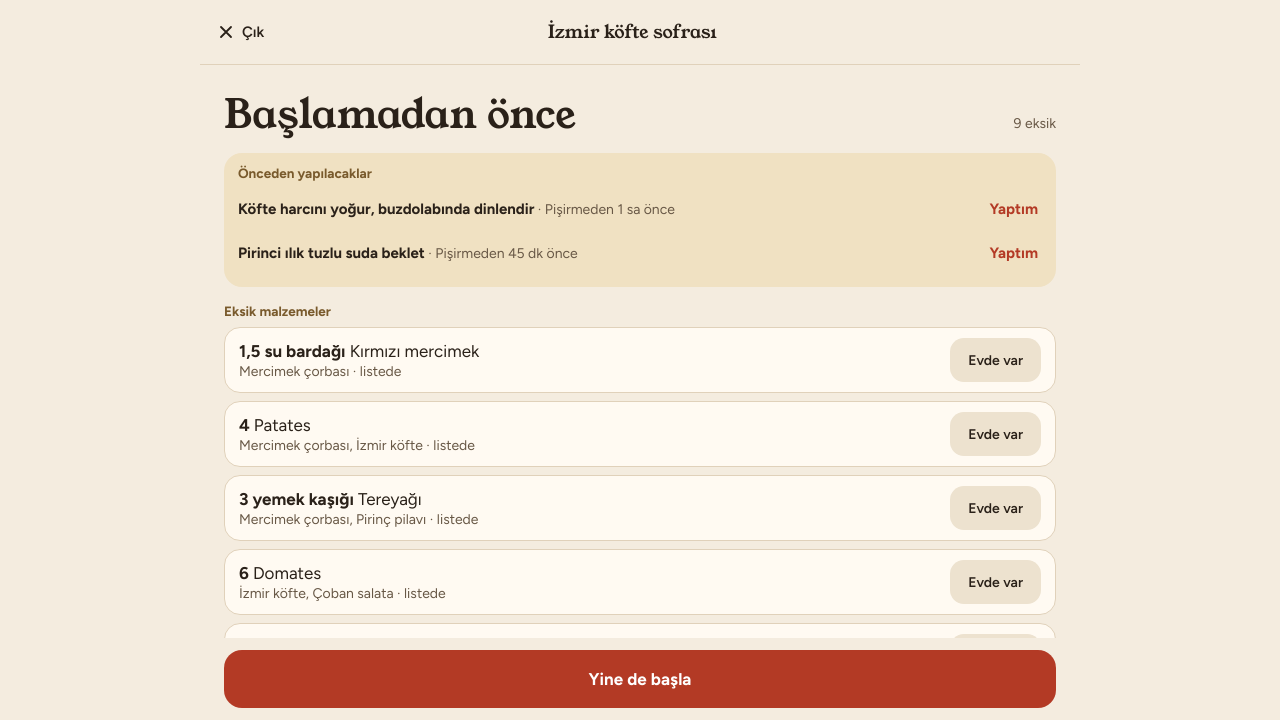
Test: cooking timers › +1 dk keeps the countdown in place; a strip timer opens its step
The width and height of the screenshot is (1280, 720).
Click the button "Yine de başla": (640,679) [224,650,1056,708]
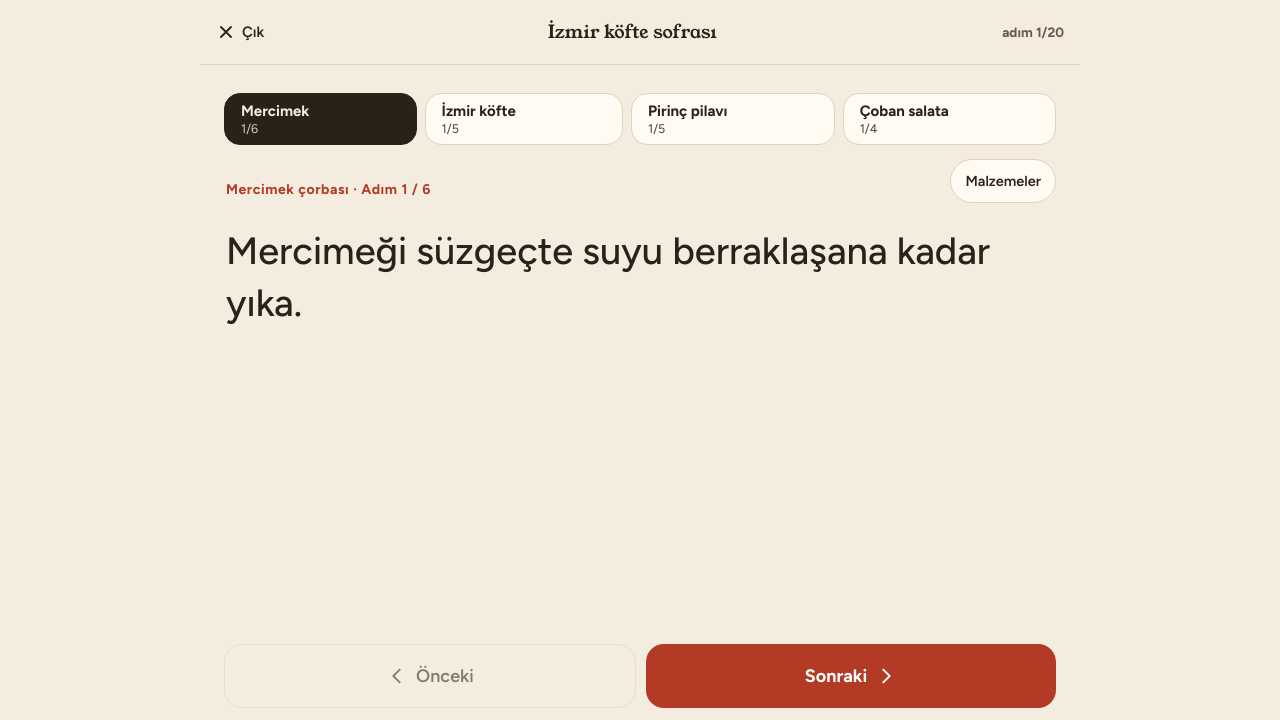
Click the tab "İzmir köfte 1/5": (524,119) [425,93,623,145]
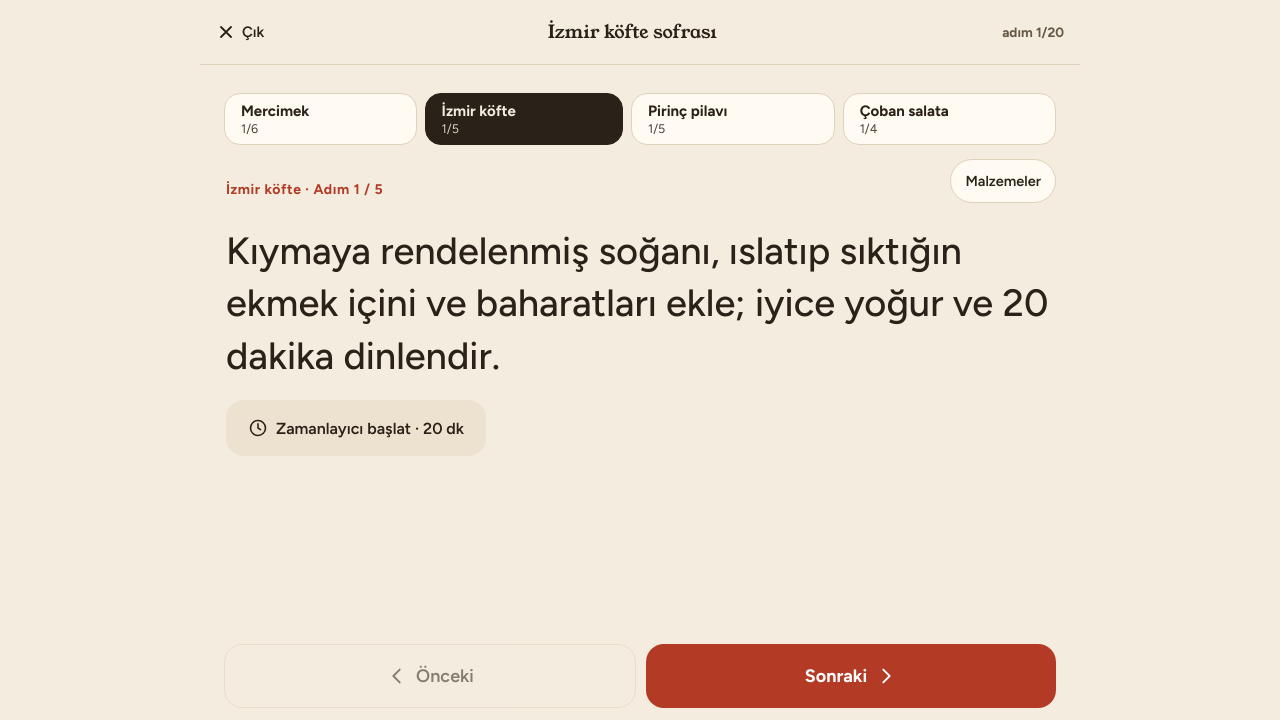
Click the button "Zamanlayıcı başlat · 20 dk": (356,428) [226,400,486,456]
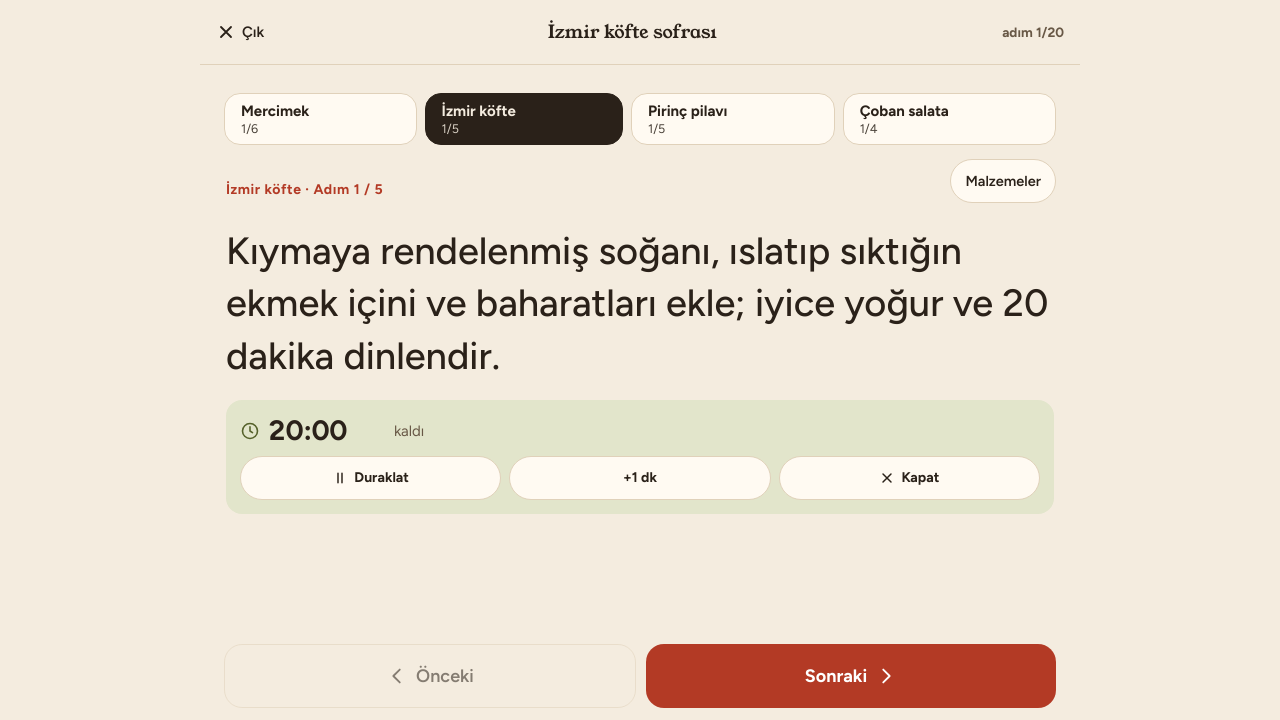
Click the button with aria-label "Adım 1: 1 dakika ekle": (640,478) [509,456,771,500]
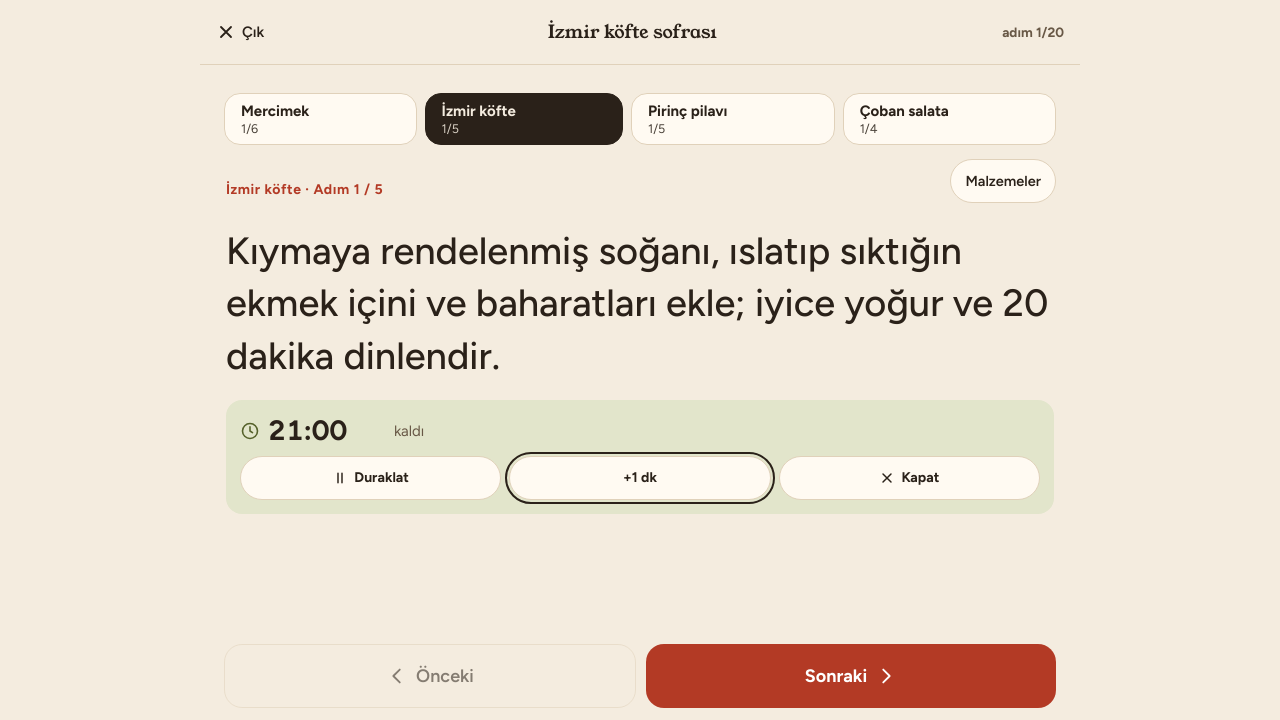
Expected: the button "Zamanlayıcı başlat · 20 dk" is not shown
Expected: the text "21:00" is shown, [268,413,347,447]
Click the button "Sonraki": (851,676) [646,644,1056,708]
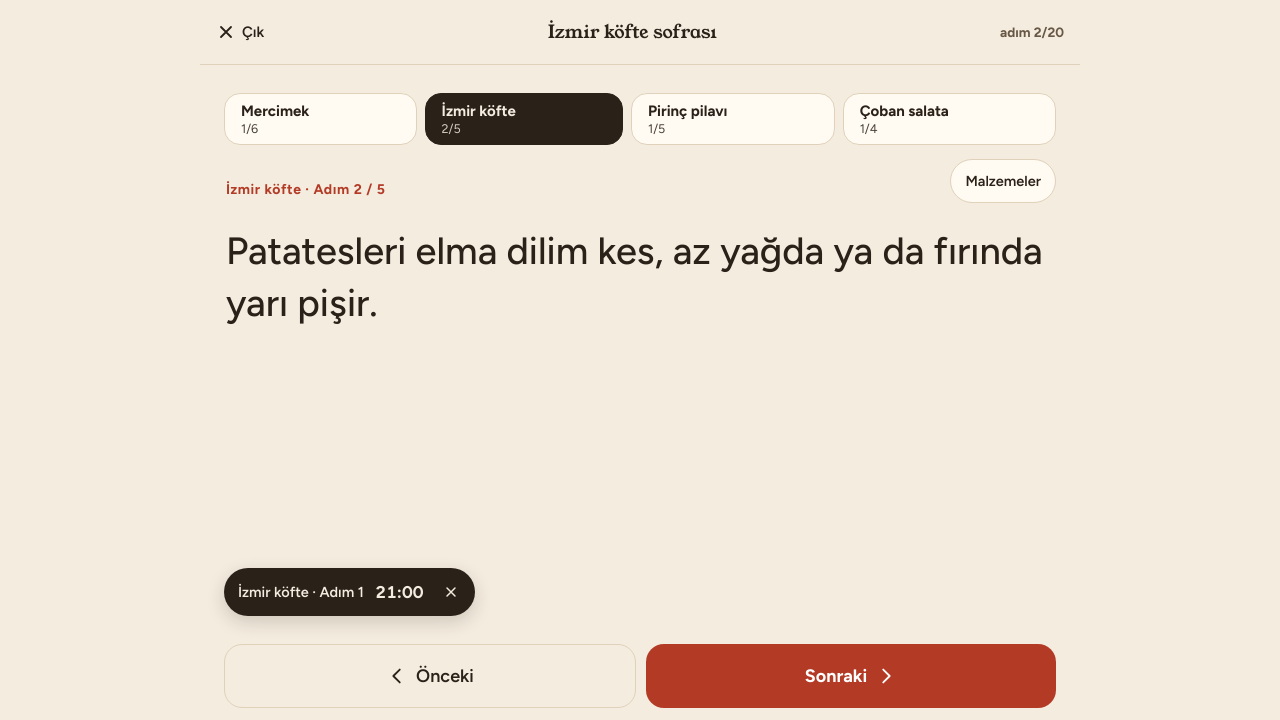
Click the button with aria-label "Adım 1: 21:00 kaldı": (331,592) [238,570,423,614]
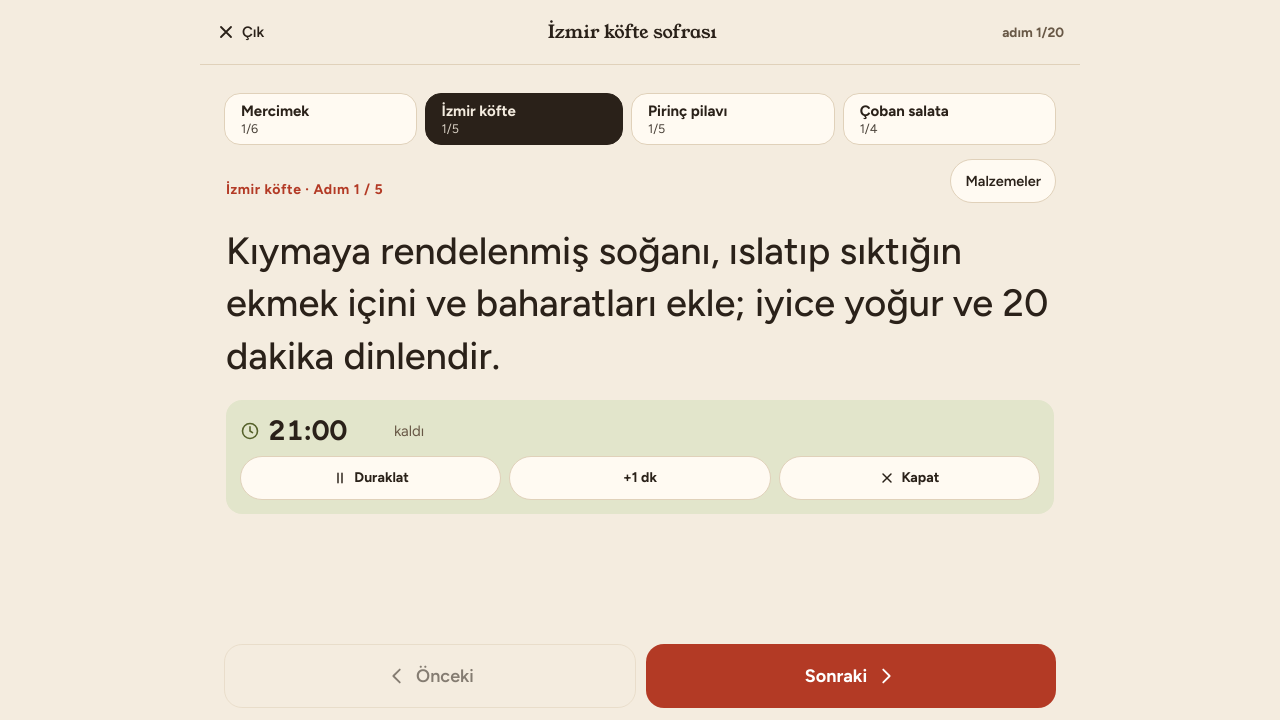
Expected: the heading shows "Adım 1 /", [314,180,383,198]
